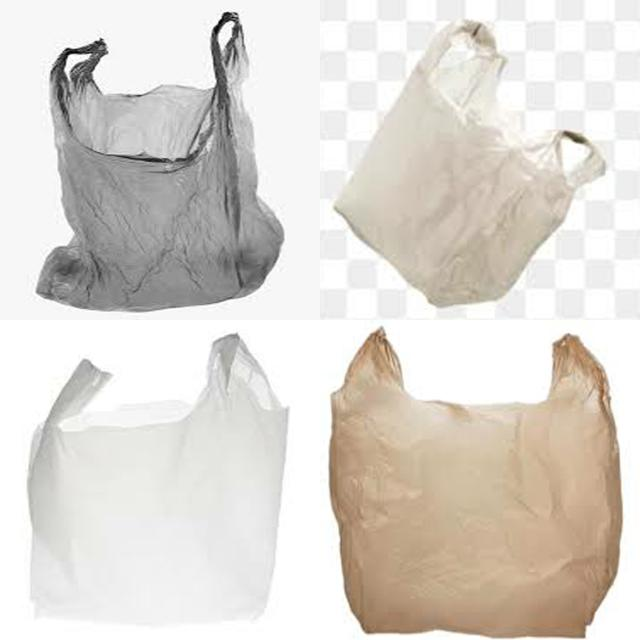Single-layer Plastic: (330, 329, 622, 638), (335, 21, 604, 306), (29, 334, 288, 624), (36, 12, 284, 311)
